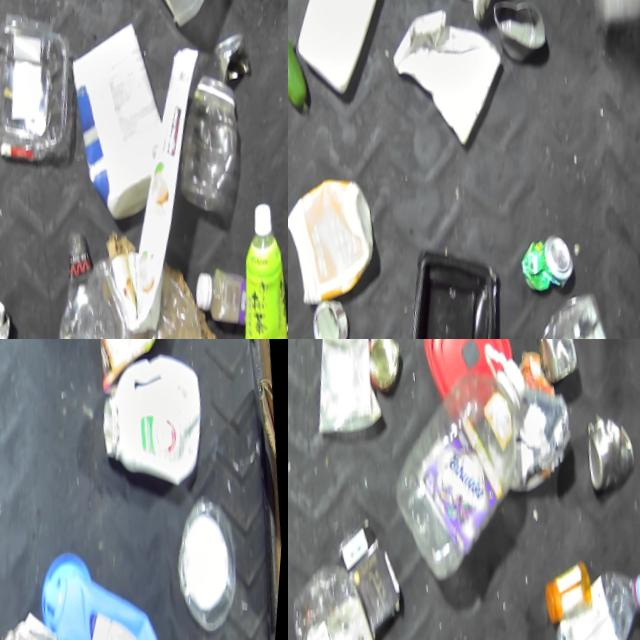can: (306, 339, 394, 442), (585, 416, 640, 499), (490, 0, 553, 72), (522, 237, 583, 301), (525, 339, 588, 394), (365, 339, 408, 398), (314, 299, 359, 339)
milk_jug: (385, 4, 515, 161), (288, 0, 411, 104)
non_white_jug: (29, 542, 183, 640), (288, 174, 389, 311)
plastic_bottle: (71, 241, 238, 339), (288, 556, 409, 640), (196, 266, 258, 339)
